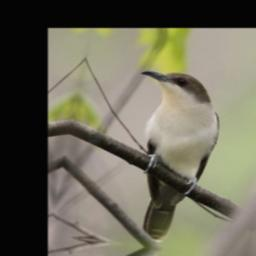Cuckoo: (105, 67, 231, 248)
